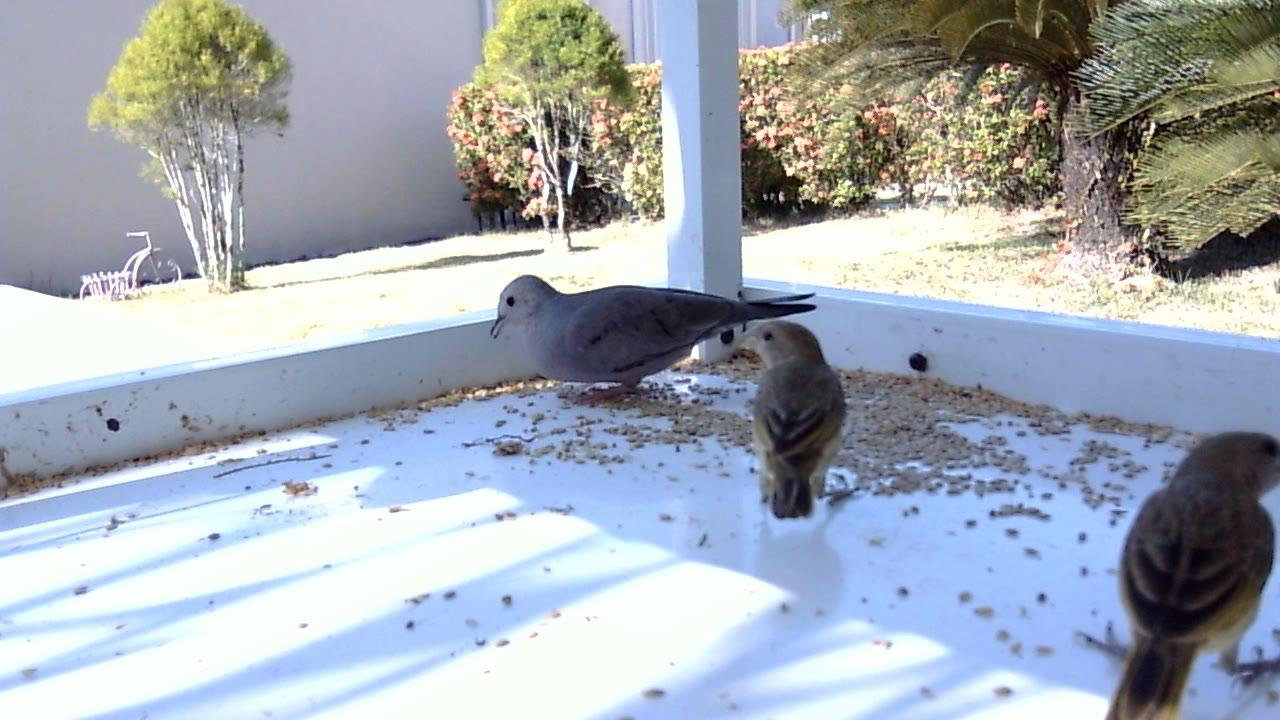canario_do_amazonas: (1073, 428, 1280, 720), (730, 319, 866, 522)
rolinha: (487, 272, 820, 411)
